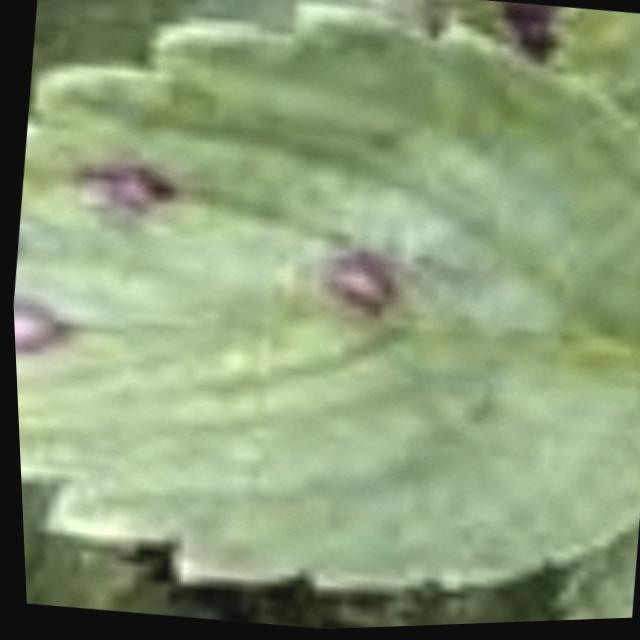Leaf Spot: (10, 0, 640, 593)
